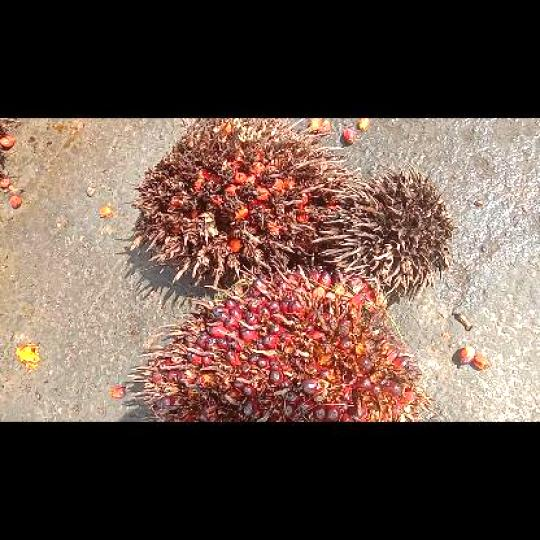masak: (127, 265, 432, 420)
terlalu masak: (120, 118, 360, 287)
